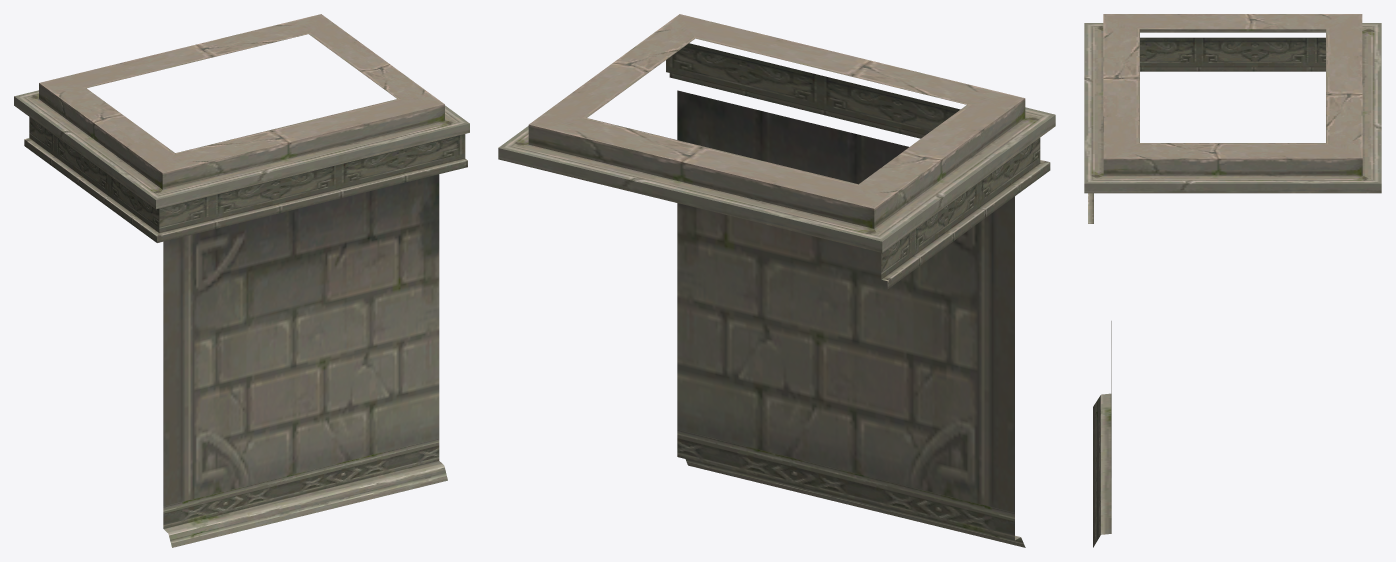
File: WSD_Item_10.FBX
3 renders of one model, left to right at view 1: azimuth 30°, elevation 25°; view 2: azimuth 150°, elevation 25°; view 3: azimuth 270°, elevation 25°, orthographic. The views are drawn at different scales.
Visible parts, largest first — view 1: WSD_Item_10; view 2: WSD_Item_10; view 3: WSD_Item_10.
Boxes of the visible parts, x1,y1,x2,y2 form: WSD_Item_10: (14,14,469,547); WSD_Item_10: (498,14,1055,547); WSD_Item_10: (1084,14,1381,547).
Size of the model in its own units: 10.16 by 11.51 by 7.95.
